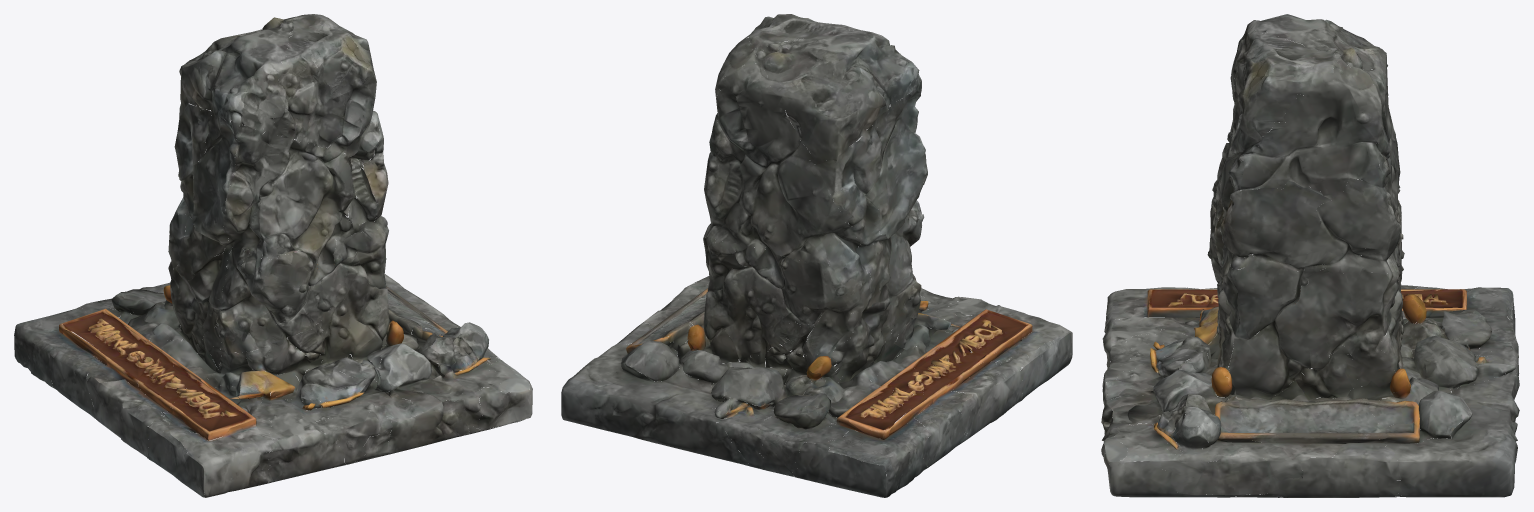
Rendered from t_pedra.glb.
The picture shows the model from 3 angles, left to right: view 1: azimuth 30°, elevation 25°; view 2: azimuth 150°, elevation 25°; view 3: azimuth 270°, elevation 25°; orthographic projection. The views are drawn at different scales.
Parts seen in each view (by area): view 1: tripo_node_15374197-c8a2-4e34-8b69-86de369b0675; view 2: tripo_node_15374197-c8a2-4e34-8b69-86de369b0675; view 3: tripo_node_15374197-c8a2-4e34-8b69-86de369b0675.
Part boxes in pixels (x1=…): tripo_node_15374197-c8a2-4e34-8b69-86de369b0675: x1=14, y1=14, x2=532, y2=497; tripo_node_15374197-c8a2-4e34-8b69-86de369b0675: x1=561, y1=14, x2=1072, y2=497; tripo_node_15374197-c8a2-4e34-8b69-86de369b0675: x1=1101, y1=14, x2=1519, y2=497.
Size of the model in its own units: 4.53 by 4.6 by 4.57.
1 material, 1 textured.
